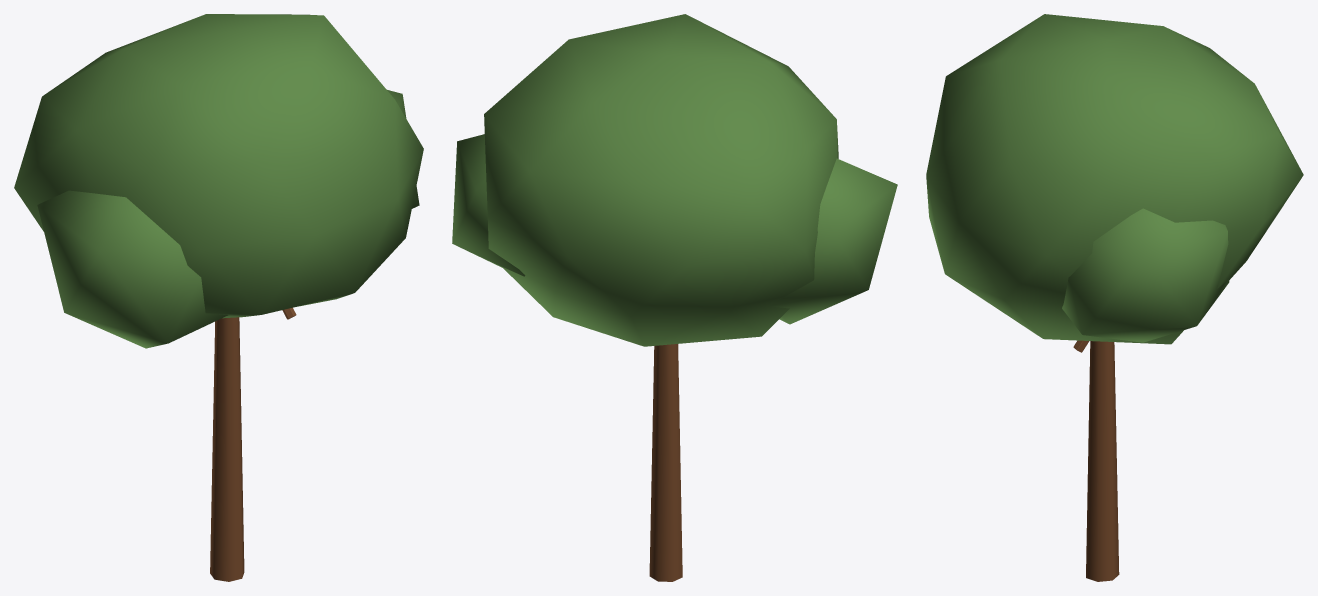
The model's file is tree-broadleaf.glb.
The picture shows the model from 3 angles, left to right: view 1: azimuth 30°, elevation 25°; view 2: azimuth 150°, elevation 25°; view 3: azimuth 270°, elevation 25°; orthographic projection. The views are drawn at different scales.
Visible parts, largest first — view 1: tree-broadleaf; view 2: tree-broadleaf; view 3: tree-broadleaf.
Boxes of the visible parts, x1,y1,x2,y2 form: tree-broadleaf: (14, 14, 423, 581); tree-broadleaf: (452, 14, 897, 581); tree-broadleaf: (926, 14, 1303, 581).
Bounding box in the file's own units: 4.75 × 6.41 × 4.11.
